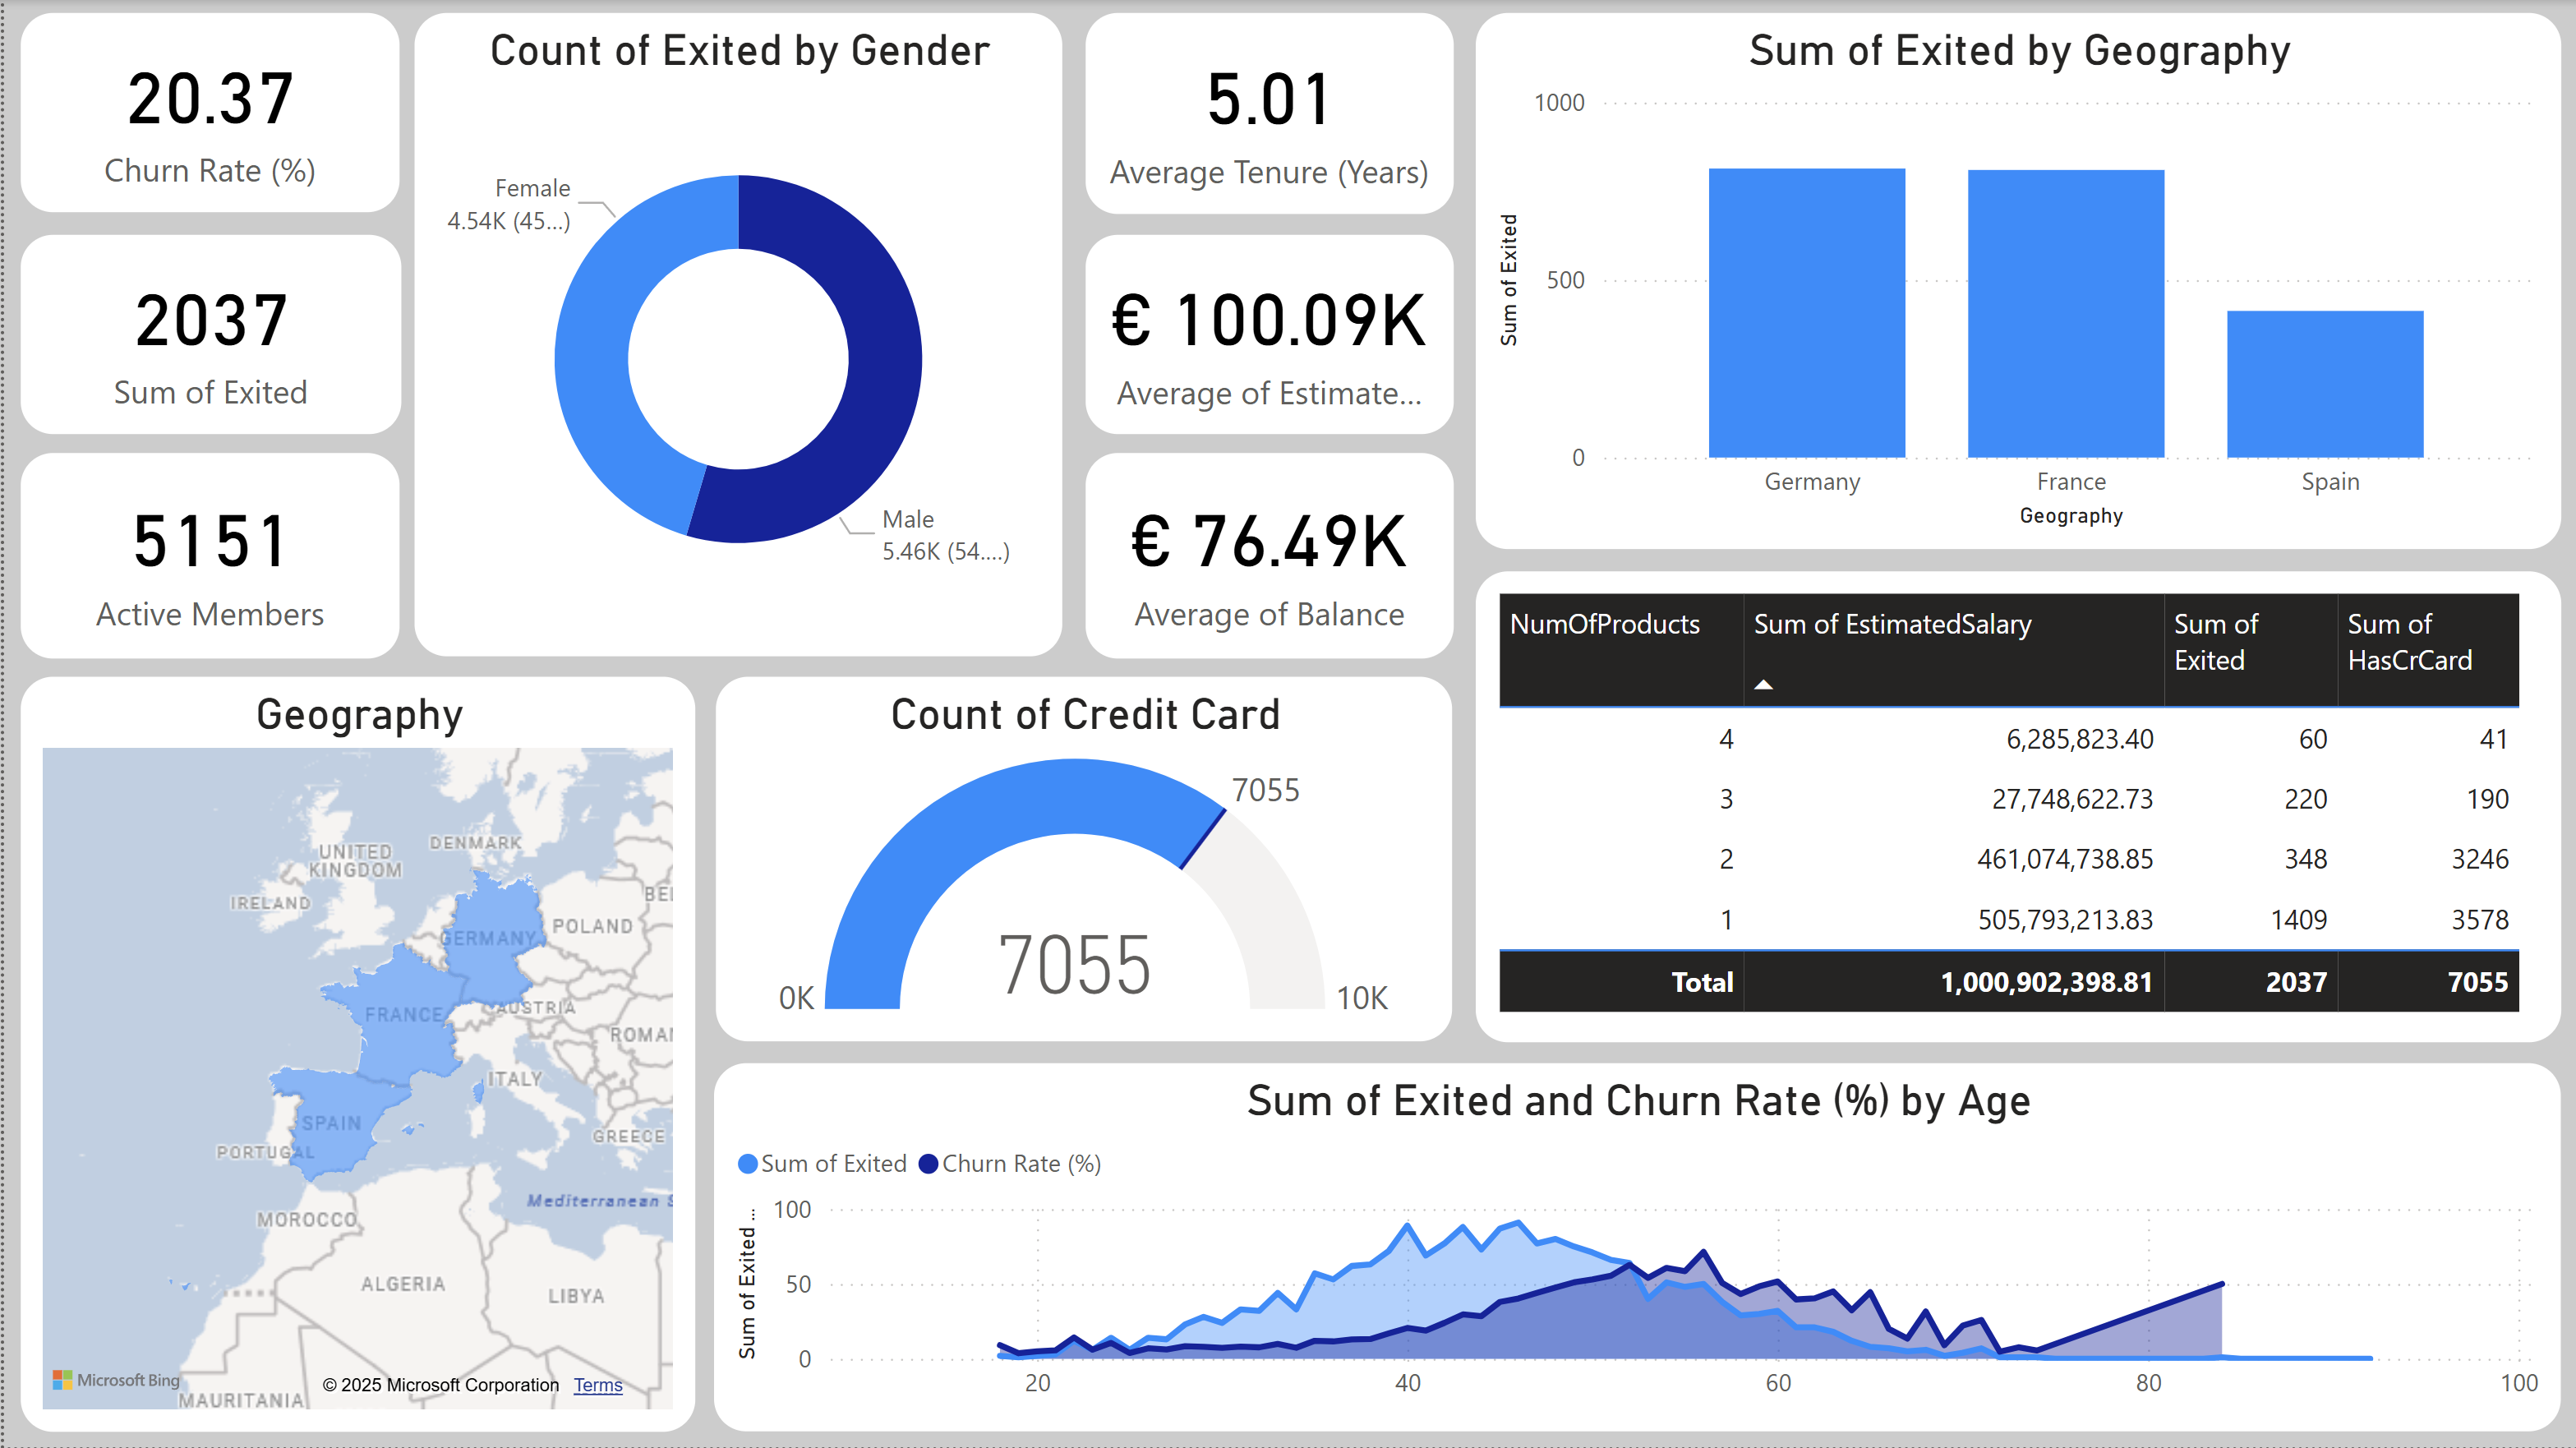

The dashboard page shown, as its layout file describes it:
{"tool":"powerbi","page":{"name":"Page 1","canvas":[1280,720],"ordinal":0},"visuals":[{"type":"donutChart","fields":{"Category":["Bank_Churn.Gender"],"Y":["CountNonNull(Bank_Churn.Exited)"]},"box":[204.4,6.7,322.2,320],"z":0},{"type":"columnChart","fields":{"Category":["Bank_Churn.Geography"],"Y":["Sum(Bank_Churn.Exited)"]},"box":[732.2,6.7,540,266.7],"z":1000},{"type":"card","fields":{"Values":["Sum(Bank_Churn.Exited)"]},"box":[7.9,117.1,189.3,99.3],"z":2000},{"type":"filledMap","fields":{"Category":["Bank_Churn.Geography"]},"box":[7.9,336.4,335.7,375.7],"z":3000},{"type":"areaChart","fields":{"Category":["Bank_Churn.Age"],"Y":["Sum(Bank_Churn.Exited)","Bank_Churn.Churn Rate (%)"]},"box":[353.2,528.8,918.8,183],"z":4000},{"type":"card","fields":{"Values":["Bank_Churn.Churn Rate (%)"]},"box":[7.9,6.4,188.6,99.3],"z":5000},{"type":"card","fields":{"Values":["Sum(Bank_Churn.IsActiveMember)"]},"box":[7.9,225,188.6,102.1],"z":6000},{"type":"card","fields":{"Values":["Avg(Bank_Churn.Tenure)"]},"box":[538,6,183,100],"z":7000},{"type":"card","fields":{"Values":["Avg(Bank_Churn.EstimatedSalary)"]},"box":[538,117,183,99],"z":8000},{"type":"card","fields":{"Values":["Avg(Bank_Churn.Balance)"]},"box":[538,225,183,102],"z":9000},{"type":"gauge","title":"Count of Credit Card","fields":{"Y":["Sum(Bank_Churn.HasCrCard)"]},"box":[354.3,336.4,366.4,181.4],"z":10000},{"type":"tableEx","fields":{"Values":["Bank_Churn.NumOfProducts","Sum(Bank_Churn.EstimatedSalary)","Sum(Bank_Churn.Exited)","Sum(Bank_Churn.HasCrCard)"]},"box":[732,284,540,234],"z":10001}]}

Visuals, with their boxes in screenshot pixels (x1, y1, x2, y2), scaled from the page's 1280x720 canvas onto the 2576x1448 screenshot:
donutChart - Bank_Churn.Gender x CountNonNull(Bank_Churn.Exited): region(412, 13, 1060, 657)
columnChart - Bank_Churn.Geography x Sum(Bank_Churn.Exited): region(1473, 13, 2560, 550)
card - Sum(Bank_Churn.Exited): region(16, 236, 397, 436)
filledMap - Bank_Churn.Geography: region(16, 676, 692, 1432)
areaChart - Bank_Churn.Age x Sum(Bank_Churn.Exited): region(711, 1063, 2560, 1432)
card - Bank_Churn.Churn Rate (%): region(16, 13, 395, 213)
card - Sum(Bank_Churn.IsActiveMember): region(16, 453, 395, 657)
card - Avg(Bank_Churn.Tenure): region(1083, 12, 1451, 213)
card - Avg(Bank_Churn.EstimatedSalary): region(1083, 235, 1451, 435)
card - Avg(Bank_Churn.Balance): region(1083, 453, 1451, 657)
"Count of Credit Card" gauge: region(713, 676, 1450, 1041)
tableEx - Bank_Churn.NumOfProducts x Sum(Bank_Churn.EstimatedSalary): region(1473, 571, 2560, 1042)
